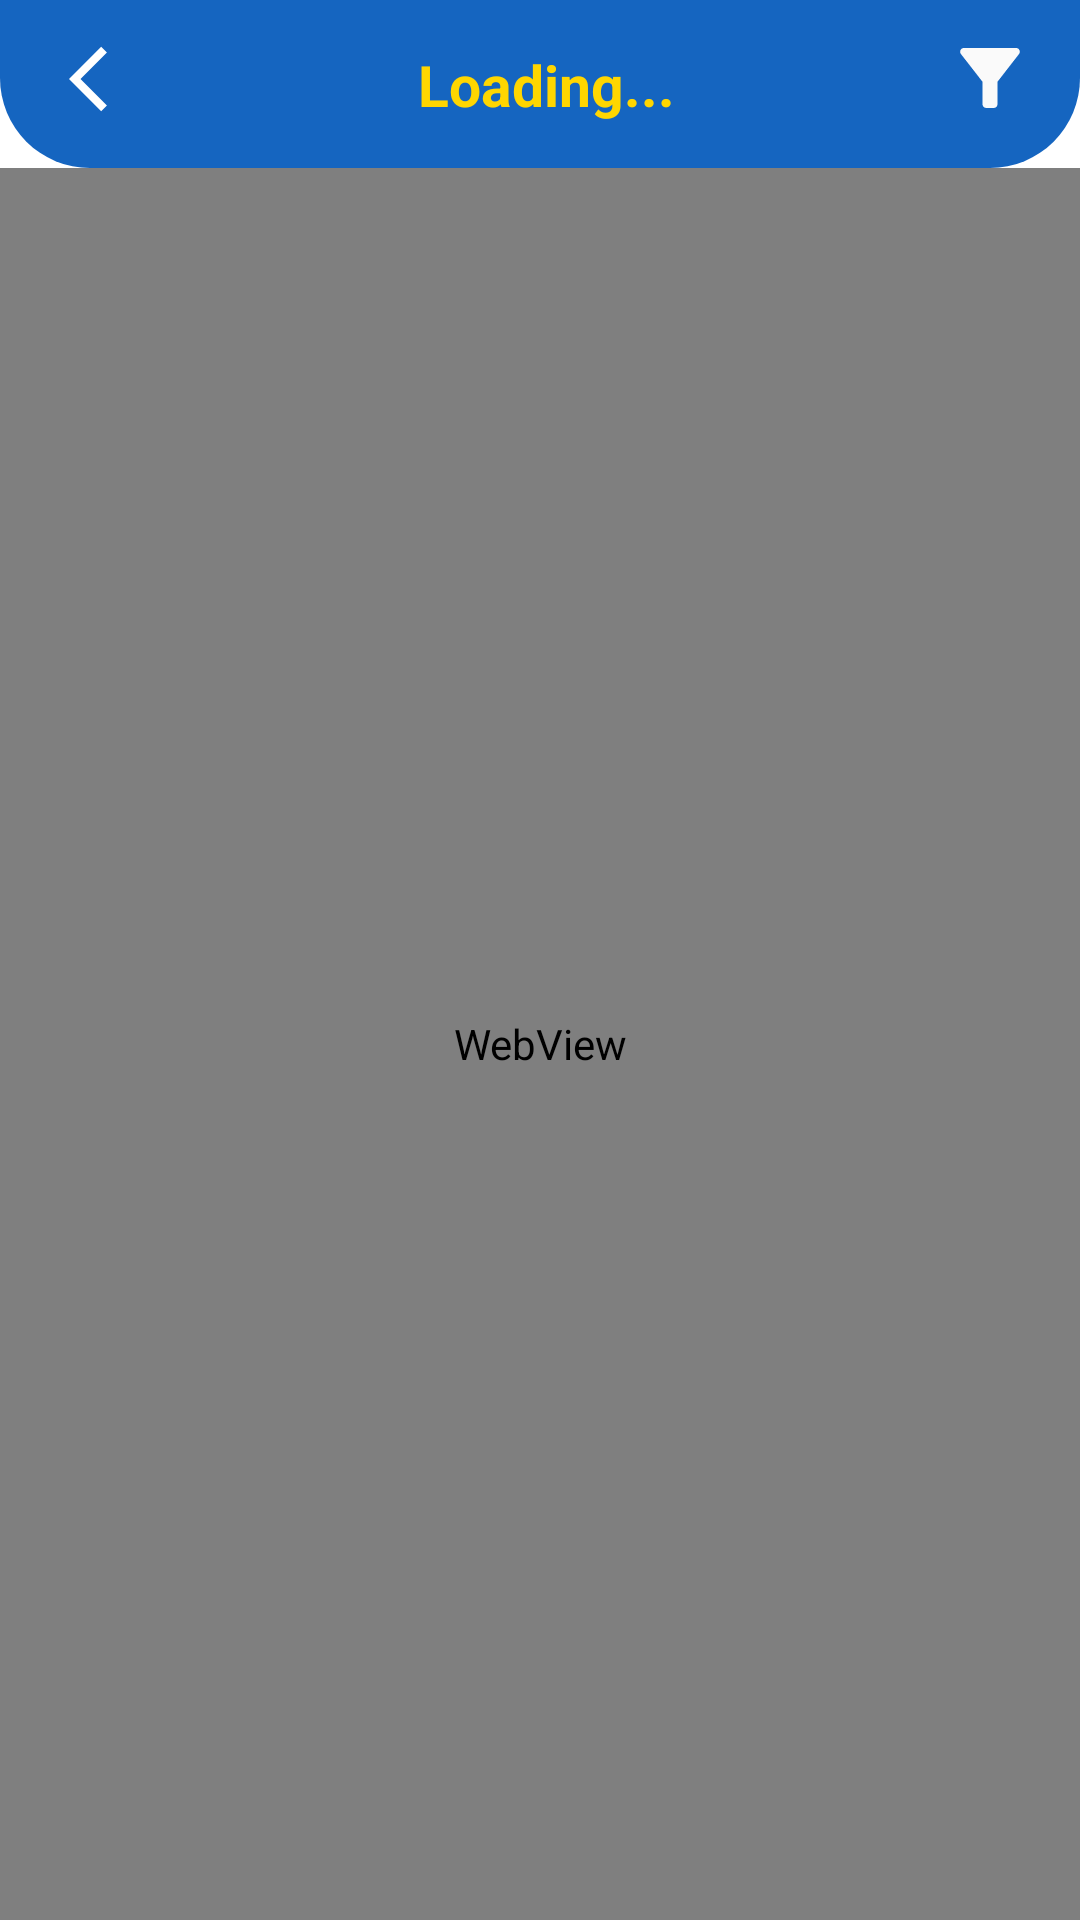

Locate icon controls on the screen. Image size 1080x1920, boxes as [x1=x1, y1=y1, x2=x2, y2=y2].
back: [x1=69, y1=47, x2=107, y2=111]
